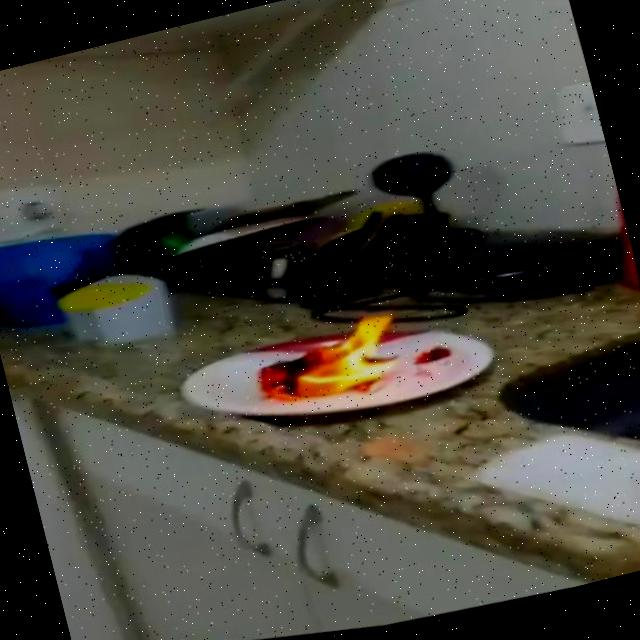fire: (243, 298, 420, 433)
